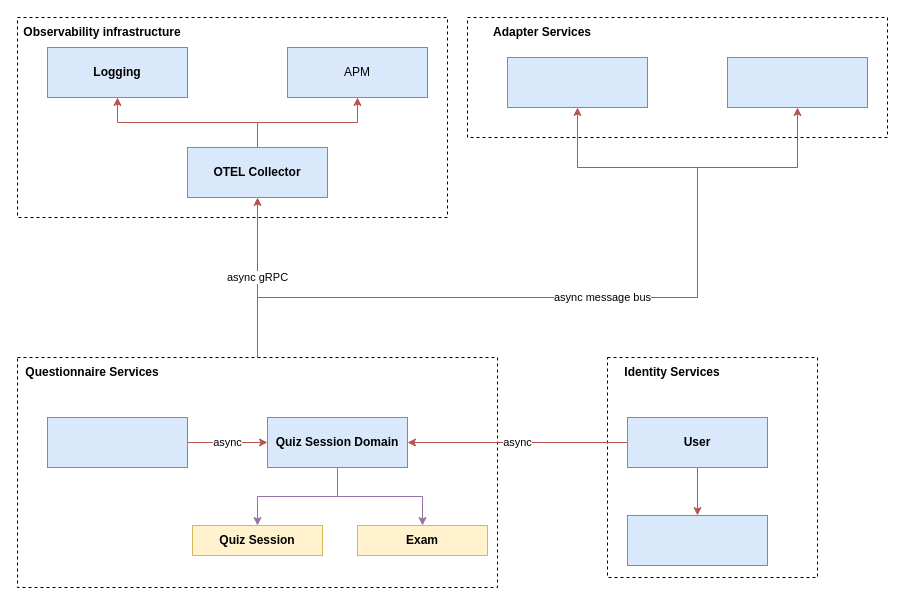
The diagram is 905 pixels wide and 605 high, and some of its shapes have lost their labels. The shapes that lost their labels are listed below. From the top down, each one's centre as x and y in pixels, then its label:
(577,82): Analytic
(797,82): Notifier Worker
(117,442): Questionnaire Domain
(697,540): Authentication & Authorization
